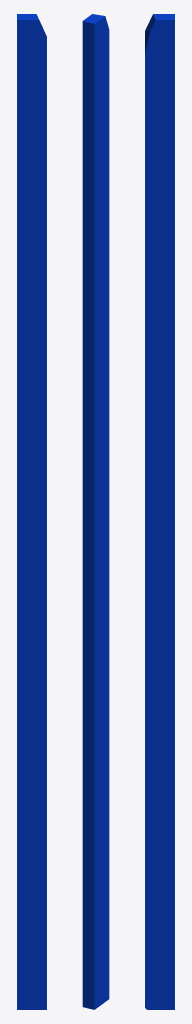
3 renders of one model, left to right at view 1: azimuth 90°, elevation 25°; view 2: azimuth 150°, elevation 25°; view 3: azimuth 270°, elevation 25°, orthographic.
Size of the model in its own units: 0.4647 by 36.73 by 1.
